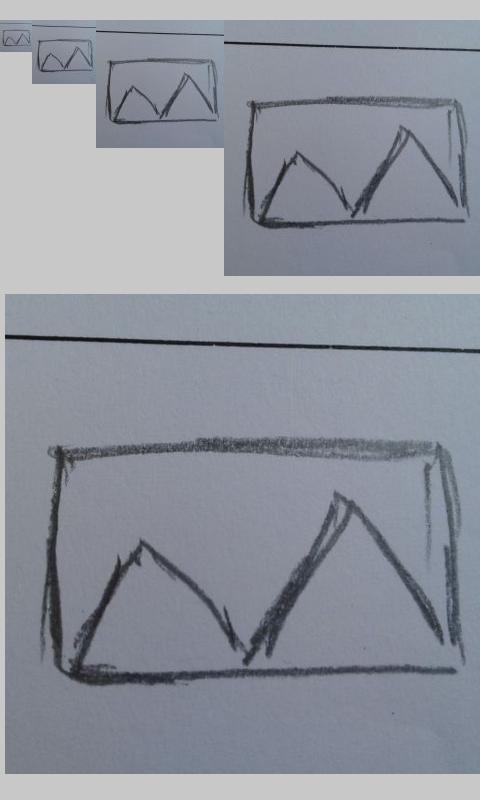image_view: (41, 439, 465, 687), (241, 95, 469, 231), (106, 58, 220, 124), (37, 39, 94, 73), (2, 29, 31, 47)
